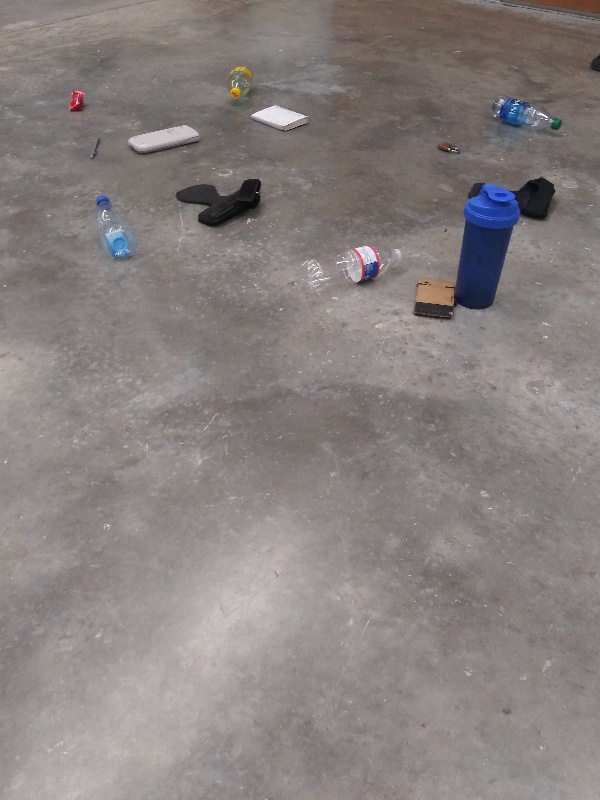bottle: (301, 244, 406, 292), (90, 190, 144, 265), (486, 92, 563, 133), (224, 59, 259, 101)
